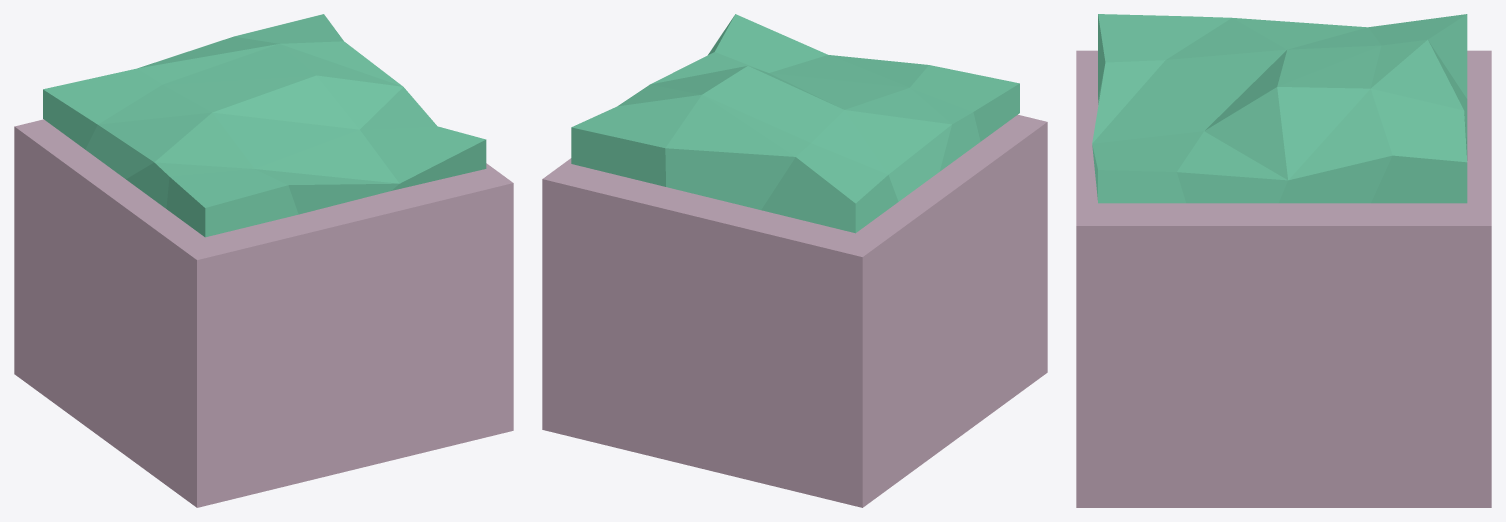
File: block_6.fbx
3 views of the same model, side by side, from view 1: azimuth 30°, elevation 25°; view 2: azimuth 150°, elevation 25°; view 3: azimuth 270°, elevation 25° (orthographic). The views are drawn at different scales.
Visible parts, largest first — view 1: block_6; view 2: block_6; view 3: block_6.
Part boxes in pixels (box(x1,y1,x2,y2)): block_6: box(14, 14, 513, 507); block_6: box(542, 14, 1047, 507); block_6: box(1076, 14, 1491, 507).
Bounding box in the file's own units: 200 × 200 × 192.
